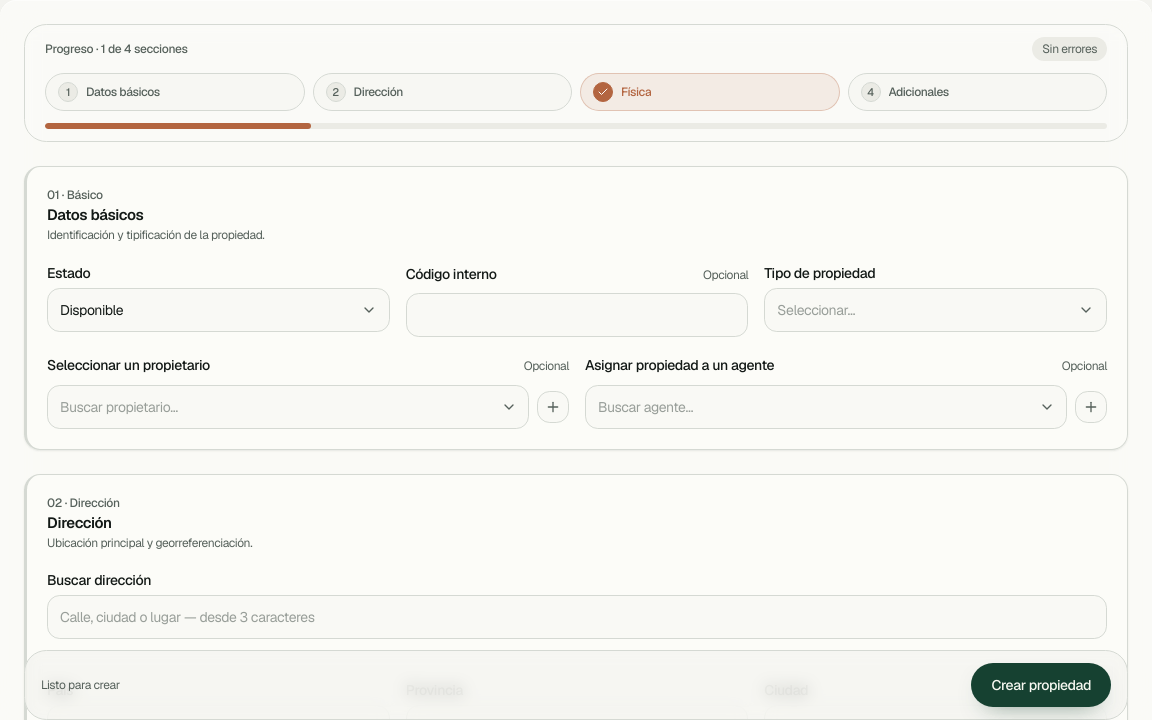
Test: PropertyCreateForm › surfaces an aria-live summary with reserved space when invalid
Click the button "Crear propiedad".
click(1041, 685)  # box [972, 663, 1111, 707]
(page scrolled)
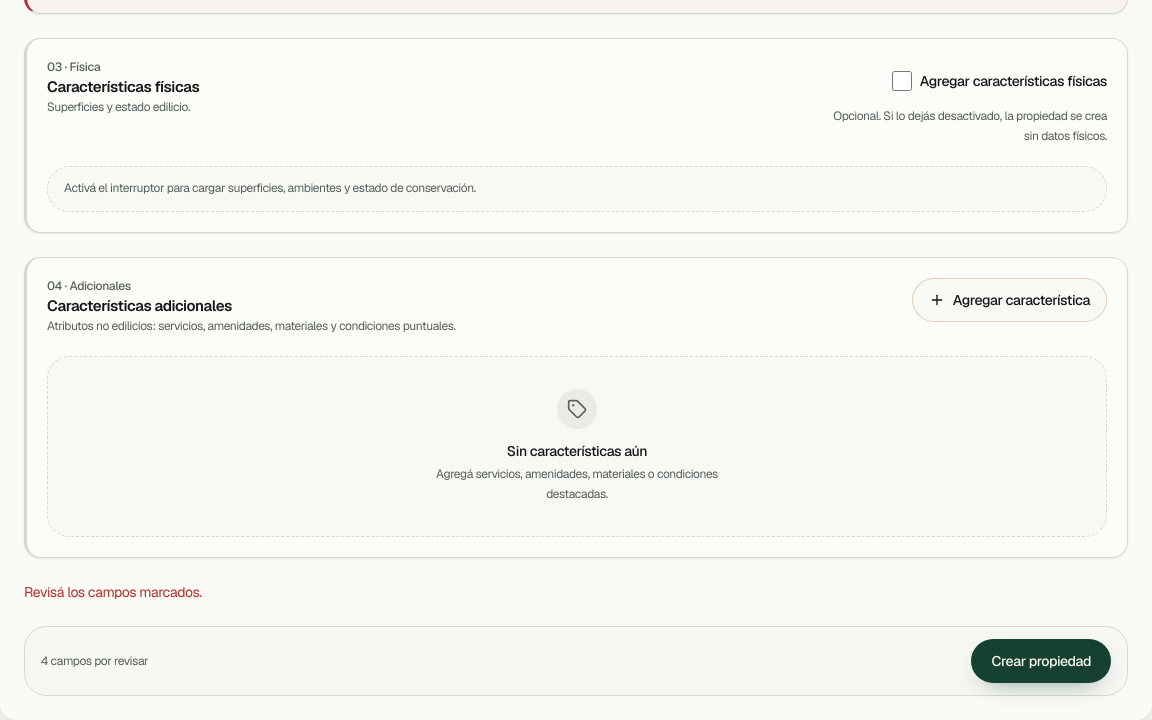
expect the message reads "Revisá los campos marcados.": met, box [24, 583, 202, 601]
